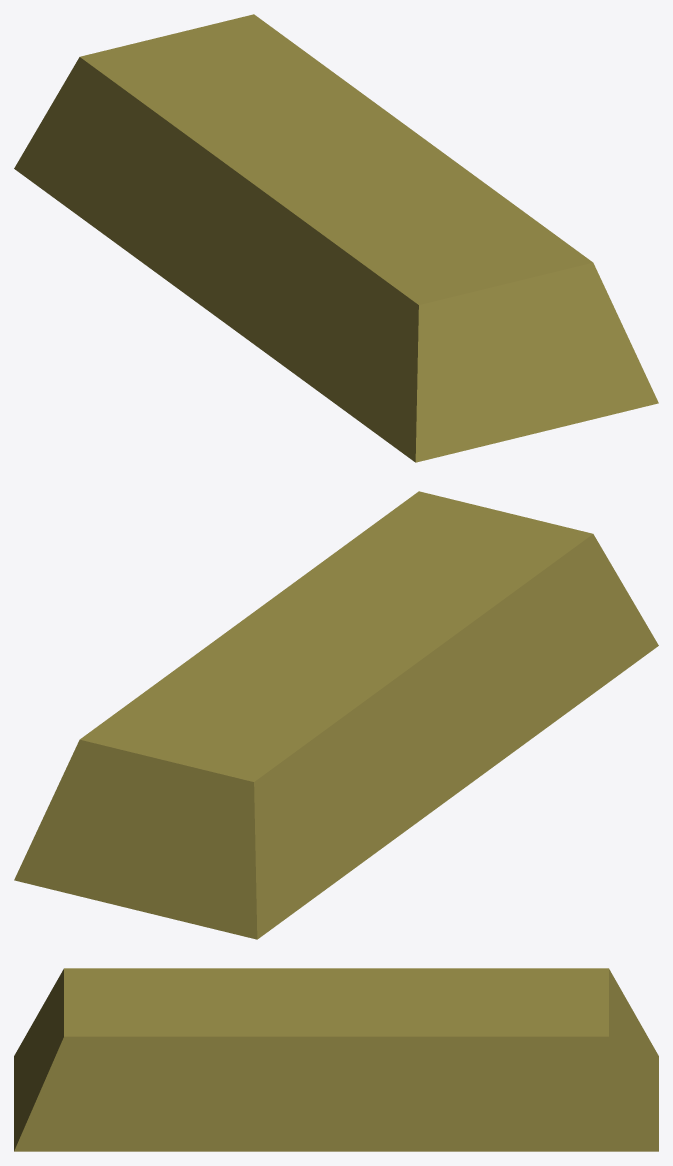
Rendered from goldIngot.fbx.
3 views of the same model, one above another, from view 1: azimuth 30°, elevation 25°; view 2: azimuth 150°, elevation 25°; view 3: azimuth 270°, elevation 25° (orthographic). The views are drawn at different scales.
Parts seen in each view (by area): view 1: pCube1; view 2: pCube1; view 3: pCube1.
Part boxes in pixels (x1=…): pCube1: x1=14, y1=14, x2=658, y2=462; pCube1: x1=14, y1=491, x2=658, y2=939; pCube1: x1=14, y1=968, x2=658, y2=1151.
Bounding box in the file's own units: 0.5081 × 0.2521 × 1.45.
